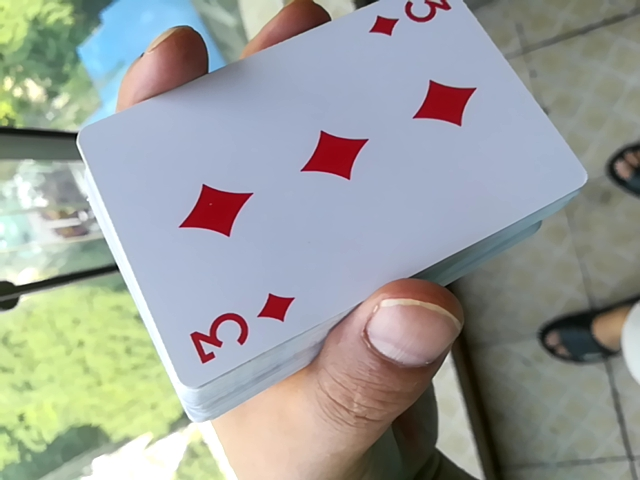fk 3: (68, 1, 587, 399)
